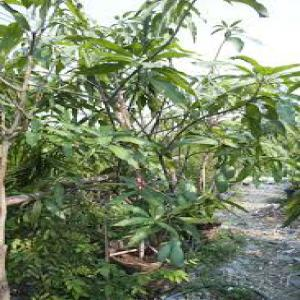Tree: (3, 5, 267, 280)
